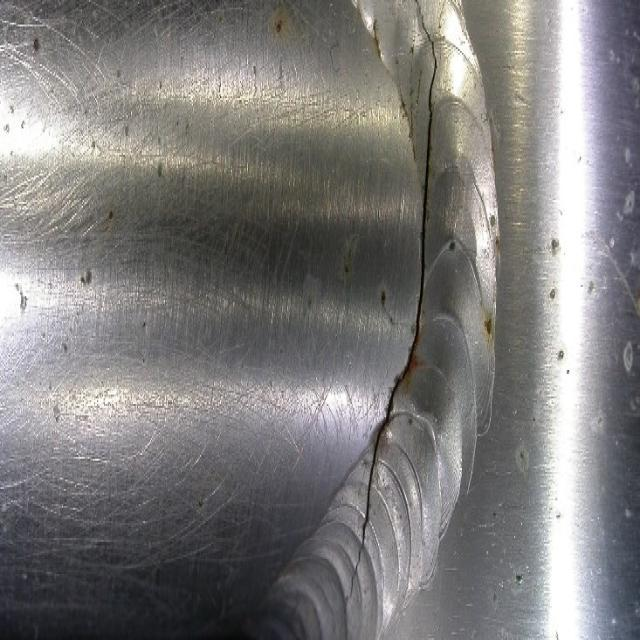Crack: (258, 0, 498, 635)
